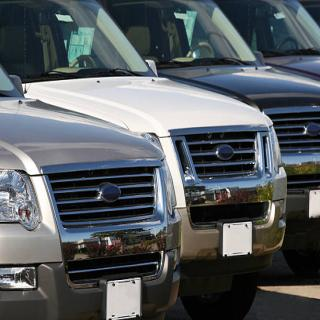Normal_vehicle: (6, 0, 283, 282), (0, 44, 181, 319), (109, 0, 320, 215), (227, 1, 320, 97)
